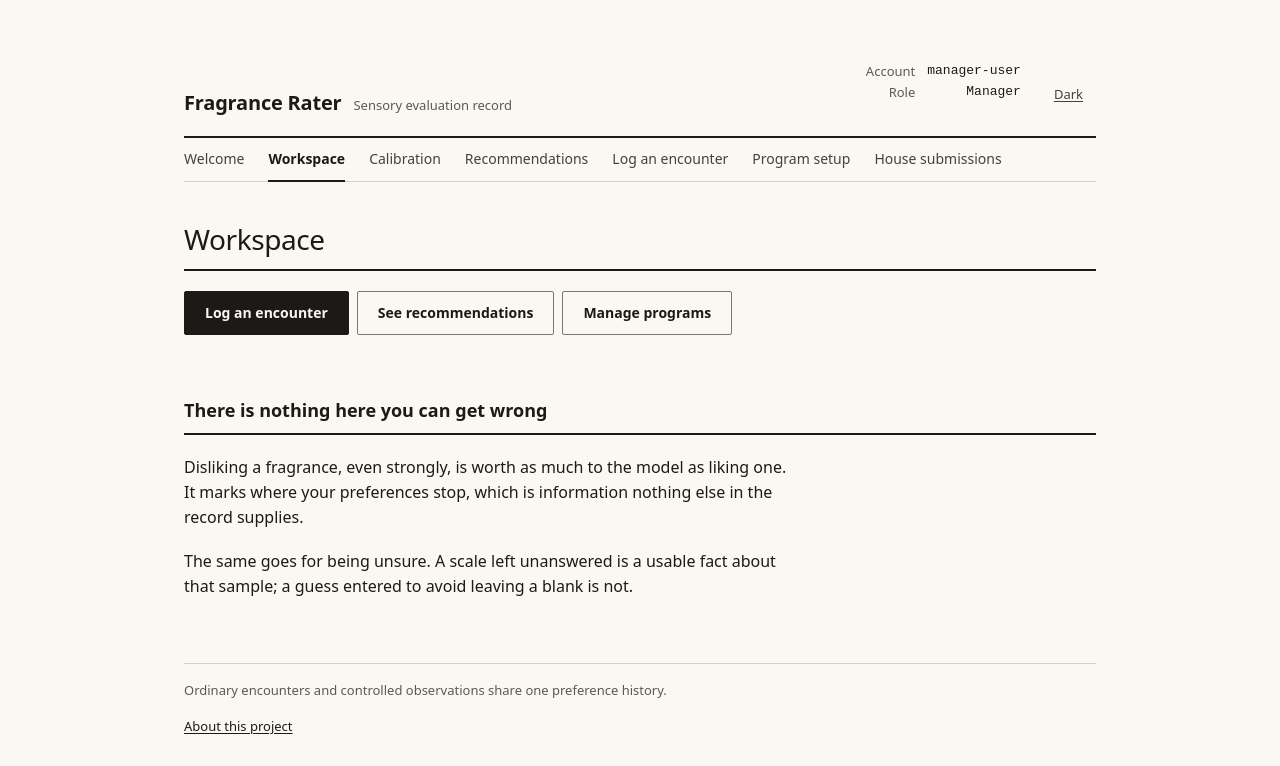
WorkspacePage › navigates to program setup when "Manage programs" is clicked
Click the button "Manage programs": (647, 313) [562, 291, 732, 335]
(page scrolled)
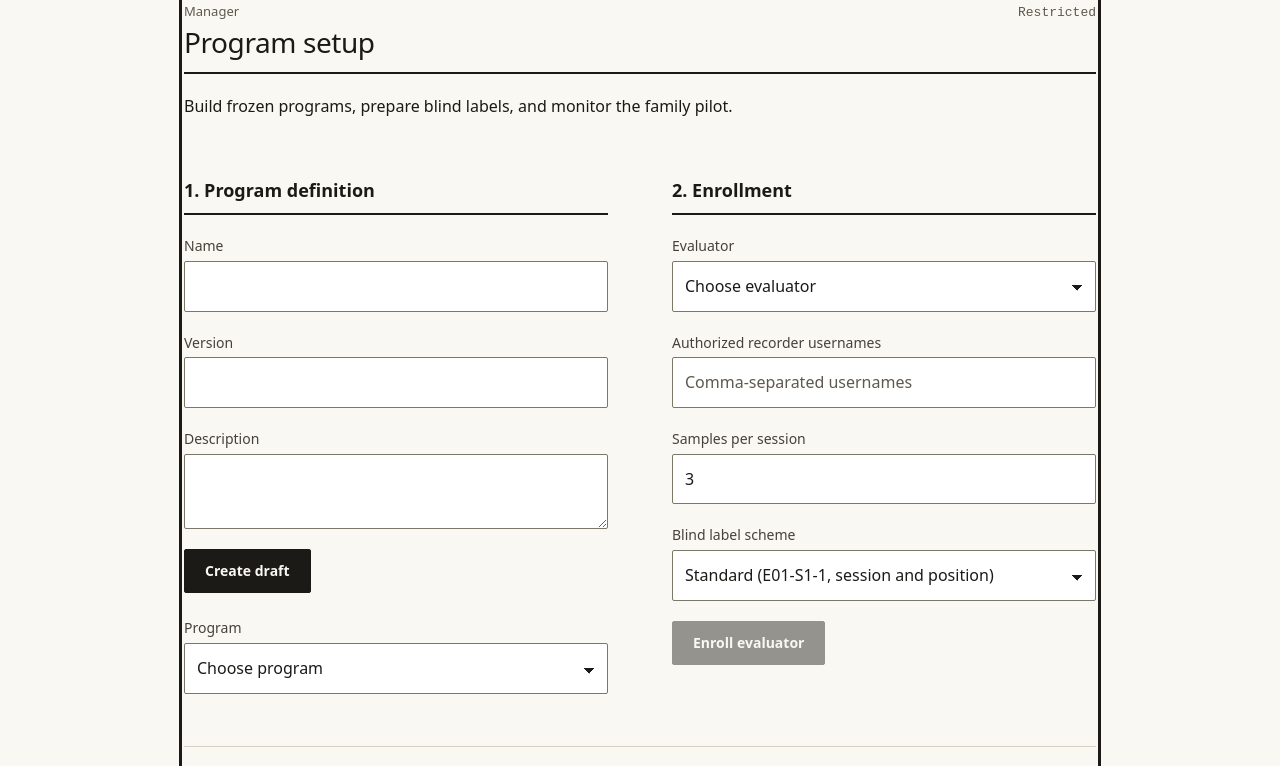
Expected: the heading "Program setup" is shown, [184, 25, 375, 60]
